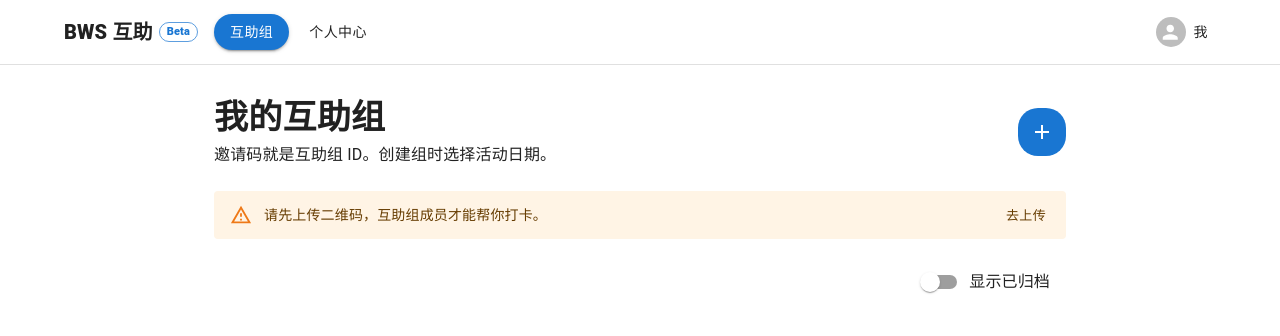
Test: HomePage › keeps group actions in the page body
The width and height of the screenshot is (1280, 336).
Expected: the heading "BWS 互助" is shown, [64,16,153,48]
Click the button named "创建或加入互助组". click: (1042, 132)
box: [1018,108,1066,156]
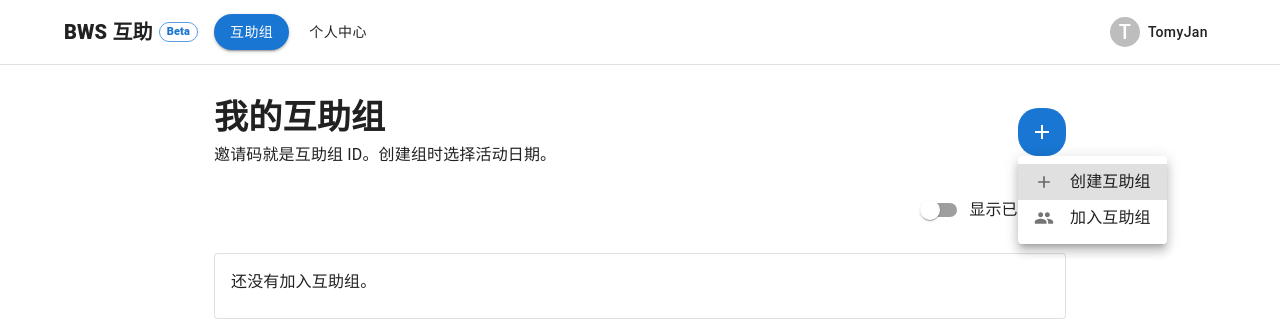
Now the menu item "创建互助组" is shown, box [1018,164,1167,200]
Now the menu item "加入互助组" is shown, box [1034,208,1151,228]
